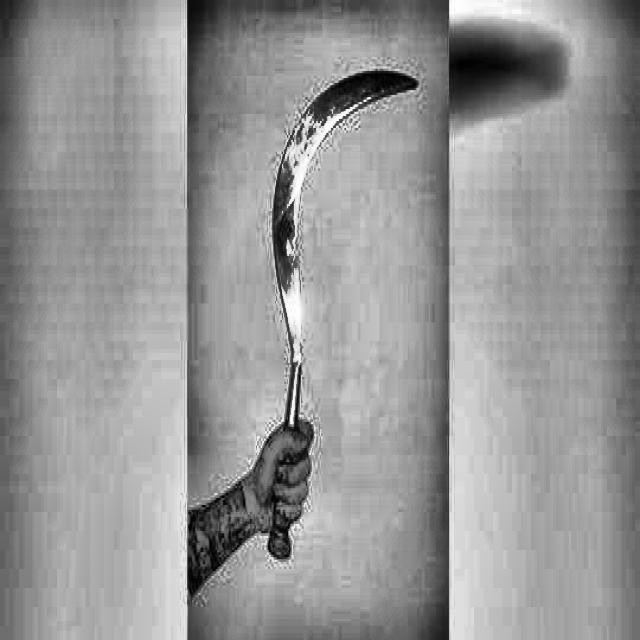celurit: (265, 57, 433, 571)
